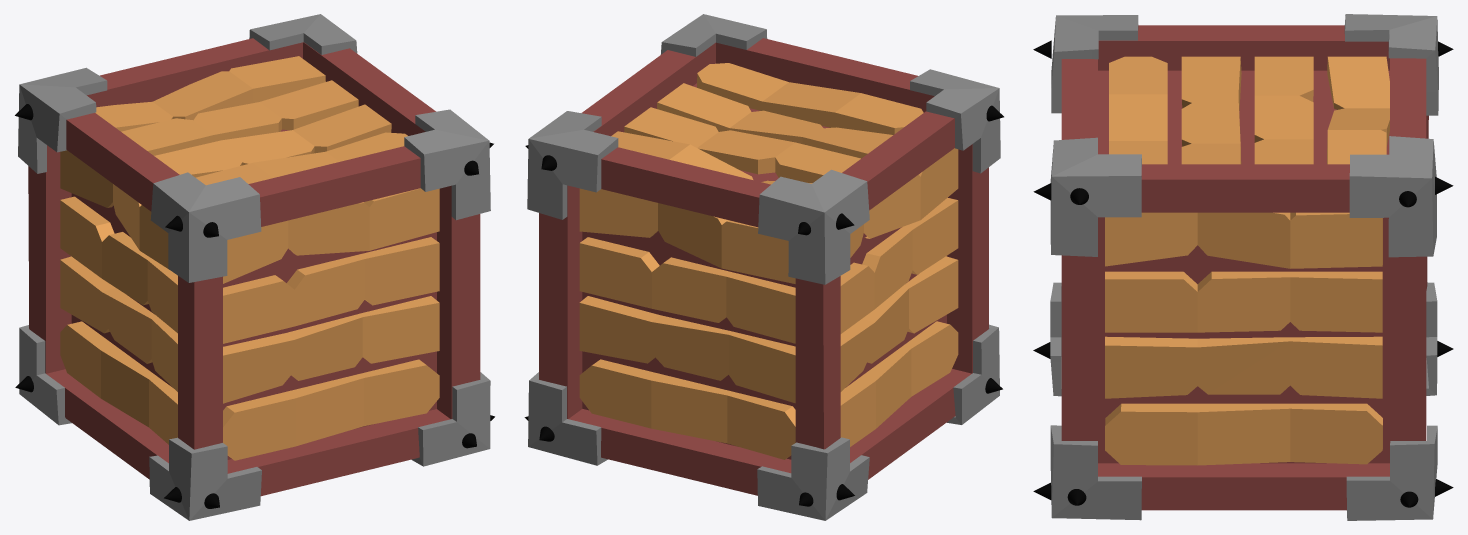
File: KisteLow2.fbx
3 views of the same model, side by side, from view 1: azimuth 30°, elevation 25°; view 2: azimuth 150°, elevation 25°; view 3: azimuth 270°, elevation 25° (orthographic). The views are drawn at different scales.
Visible parts, largest first — view 1: Cubo.002; view 2: Cubo.002; view 3: Cubo.002.
Part boxes in pixels (bbox=[...]): Cubo.002: bbox=[15, 14, 494, 520]; Cubo.002: bbox=[524, 14, 1003, 520]; Cubo.002: bbox=[1033, 14, 1453, 520].
Size of the model in its own units: 232 by 212 by 231.
